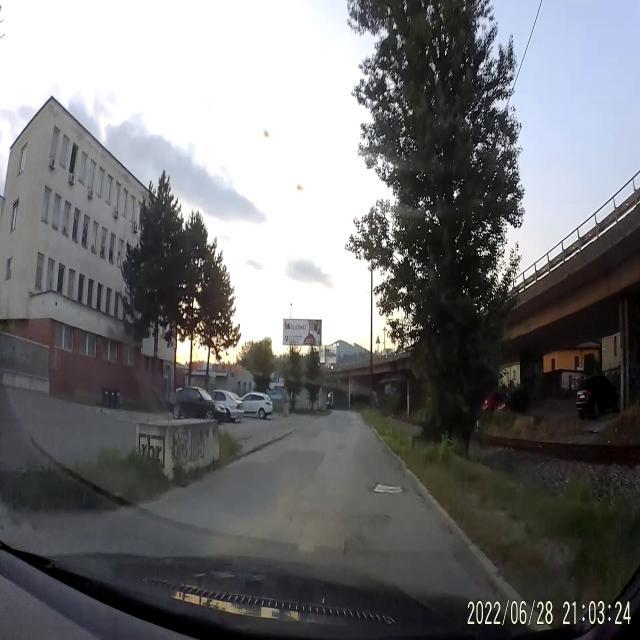Pothole: (364, 475, 406, 500)
